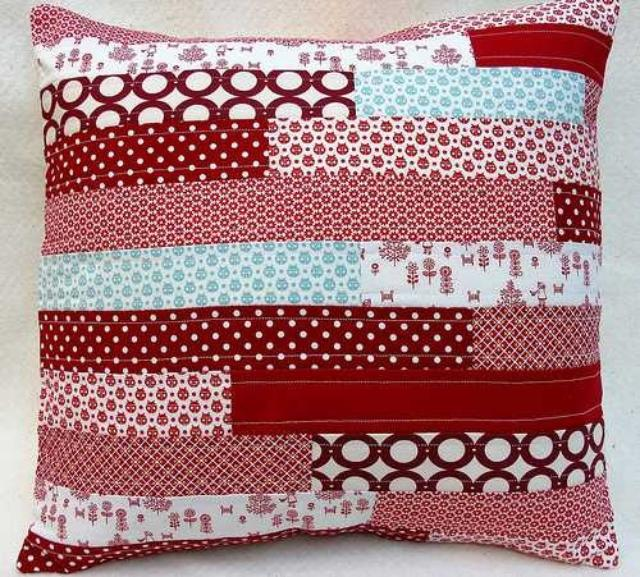pillow: (17, 1, 623, 574)
